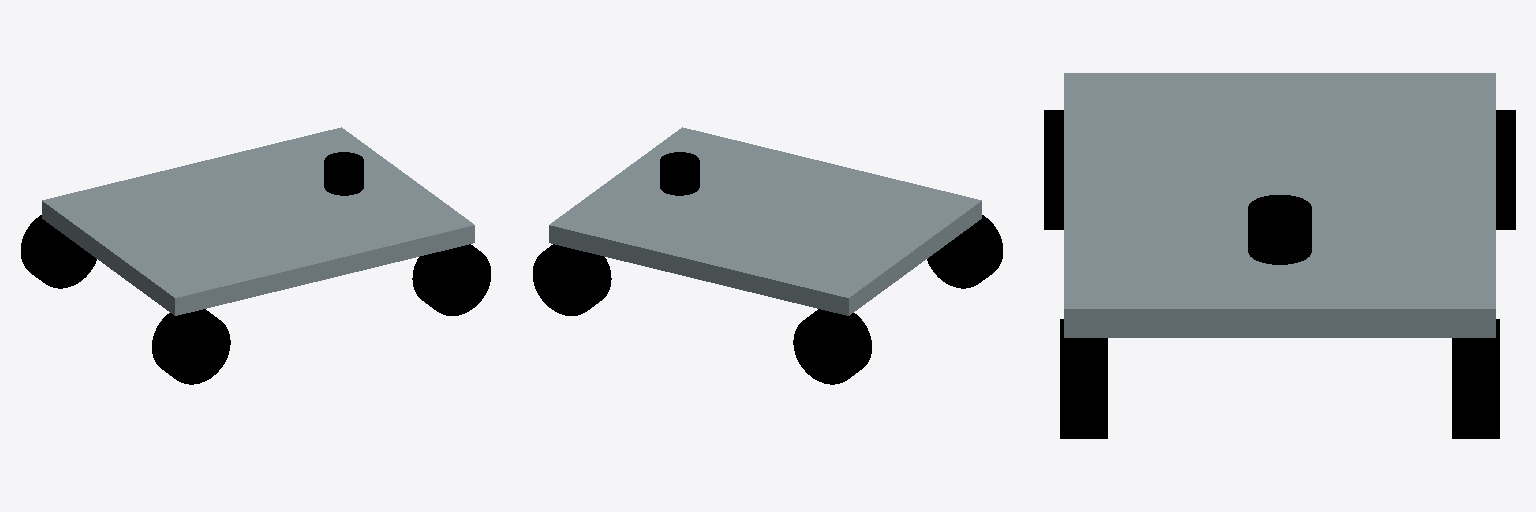
robot.urdf — small_car:
<?xml version="1.0" ?>
<!-- =================================================================================== -->
<!-- |    This document was autogenerated by xacro from car.xacro                      | -->
<!-- |    EDITING THIS FILE BY HAND IS NOT RECOMMENDED                                 | -->
<!-- =================================================================================== -->
<!-- <?xml version="1.0"?>
<robot xmlns:xacro="http://www.ros.org/wiki/xacro" name="Fan"> -->
<!--  -->
<robot name="small_car">
  <material name="green">
    <color rgba="0 0.5 0.2 1"/>
  </material>
  <material name="black">
    <color rgba="0 0 0 1"/>
  </material>
  <material name="white">
    <color rgba="1 1 1 1"/>
  </material>
  <material name="grey">
    <color rgba="0.5843137254901961 0.6392156862745098 0.6509803921568628 1"/>
  </material>
  <!-- car kg -->
  <!-- must -->
  <link name="base_footprint"/>
  <joint name="base_joint" type="fixed">
    <parent link="base_footprint"/>
    <child link="base_link"/>
    <origin rpy="0 0 0" xyz="0 0 0.010"/>
  </joint>
  <!-- car body -->
  <link name="base_link">
    <visual>
      <geometry>
        <box size="0.35 0.27 0.02"/>
      </geometry>
      <origin rpy="0 0 0" xyz="0 0 0"/>
      <material name="grey"/>
    </visual>
    <collision>
      <geometry>
        <box size="0.35 0.27 0.02"/>
      </geometry>
      <origin rpy="0 0 0" xyz="0 0 0"/>
    </collision>
    <inertial>
      <mass value="2"/>
      <!-- box inertia -->
      <inertia ixx="0.02048333333333333" ixy="0.0" ixz="0.0" iyy="0.012216666666666667" iyz="0.0" izz="0.03256666666666666"/>
    </inertial>
  </link>
  <!-- wheel diameter/2 -->
  <link name="right_front_steering_wheel">
    <inertial>
      <mass value="0.1"/>
      <inertia ixx="4.265624999999999e-05" ixy="0.0" ixz="0.0" iyy="4.265624999999999e-05" iyz="0.0" izz="7.03125e-05"/>
    </inertial>
  </link>
  <joint name="right_front_steering_wheel_joint" type="revolute">
    <axis rpy="0 0 0" xyz="0 0 1"/>
    <parent link="base_link"/>
    <child link="right_front_steering_wheel"/>
    <origin rpy="0 0 0" xyz="0.155 -0.1225 -0.0475"/>
  </joint>
  <link name="left_front_steering_wheel">
    <inertial>
      <mass value="0.1"/>
      <inertia ixx="4.265624999999999e-05" ixy="0.0" ixz="0.0" iyy="4.265624999999999e-05" iyz="0.0" izz="7.03125e-05"/>
    </inertial>
  </link>
  <joint name="left_front_steering_wheel_joint" type="revolute">
    <axis rpy="0 0 0" xyz="0 0 1"/>
    <parent link="base_link"/>
    <child link="left_front_steering_wheel"/>
    <origin rpy="0 0 0" xyz="0.155 0.1225 -0.0475"/>
  </joint>
  <link name="right_front_forward_wheel">
    <visual>
      <origin rpy="1.5707963267948966 0 0" xyz="0 0 0"/>
      <geometry>
        <cylinder length="0.03" radius="0.0375"/>
      </geometry>
      <material name="black"/>
    </visual>
    <collision>
      <origin rpy="1.5707963267948966 0 0" xyz="0 0 0"/>
      <geometry>
        <cylinder length="0.03" radius="0.0375"/>
      </geometry>
    </collision>
    <inertial>
      <mass value="0.1"/>
      <!-- cylinder inertia -->
      <inertia ixx="4.265624999999999e-05" ixy="0.0" ixz="0.0" iyy="4.265624999999999e-05" iyz="0.0" izz="7.03125e-05"/>
    </inertial>
  </link>
  <joint name="right_front_forward_wheel_joint" type="continuous">
    <axis rpy="0 0 0" xyz="0 1 0"/>
    <parent link="right_front_steering_wheel"/>
    <child link="right_front_forward_wheel"/>
    <origin rpy="0 0 0" xyz="0.0 -0.0 -0.0"/>
  </joint>
  <link name="left_front_forward_wheel">
    <visual>
      <origin rpy="1.5707963267948966 0 0" xyz="0 0 0"/>
      <geometry>
        <cylinder length="0.03" radius="0.0375"/>
      </geometry>
      <material name="black"/>
    </visual>
    <collision>
      <origin rpy="1.5707963267948966 0 0" xyz="0 0 0"/>
      <geometry>
        <cylinder length="0.03" radius="0.0375"/>
      </geometry>
    </collision>
    <inertial>
      <mass value="0.1"/>
      <!-- cylinder inertia -->
      <inertia ixx="4.265624999999999e-05" ixy="0.0" ixz="0.0" iyy="4.265624999999999e-05" iyz="0.0" izz="7.03125e-05"/>
    </inertial>
  </link>
  <joint name="left_front_forward_wheel_joint" type="continuous">
    <axis rpy="0 0 0" xyz="0 1 0"/>
    <parent link="left_front_steering_wheel"/>
    <child link="left_front_forward_wheel"/>
    <origin rpy="0 0 0" xyz="0.0 0.0 -0.0"/>
  </joint>
  <link name="right_back_forward_wheel">
    <visual>
      <origin rpy="1.5707963267948966 0 0" xyz="0 0 0"/>
      <geometry>
        <cylinder length="0.03" radius="0.0375"/>
      </geometry>
      <material name="black"/>
    </visual>
    <collision>
      <origin rpy="1.5707963267948966 0 0" xyz="0 0 0"/>
      <geometry>
        <cylinder length="0.03" radius="0.0375"/>
      </geometry>
    </collision>
    <inertial>
      <mass value="0.1"/>
      <!-- cylinder inertia -->
      <inertia ixx="4.265624999999999e-05" ixy="0.0" ixz="0.0" iyy="4.265624999999999e-05" iyz="0.0" izz="7.03125e-05"/>
    </inertial>
  </link>
  <joint name="right_back_forward_wheel_joint" type="continuous">
    <axis rpy="0 0 0" xyz="0 1 0"/>
    <parent link="base_link"/>
    <child link="right_back_forward_wheel"/>
    <origin rpy="0 0 0" xyz="-0.155 -0.1325 -0.0475"/>
  </joint>
  <link name="left_back_forward_wheel">
    <visual>
      <origin rpy="1.5707963267948966 0 0" xyz="0 0 0"/>
      <geometry>
        <cylinder length="0.03" radius="0.0375"/>
      </geometry>
      <material name="black"/>
    </visual>
    <collision>
      <origin rpy="1.5707963267948966 0 0" xyz="0 0 0"/>
      <geometry>
        <cylinder length="0.03" radius="0.0375"/>
      </geometry>
    </collision>
    <inertial>
      <mass value="0.1"/>
      <!-- cylinder inertia -->
      <inertia ixx="4.265624999999999e-05" ixy="0.0" ixz="0.0" iyy="4.265624999999999e-05" iyz="0.0" izz="7.03125e-05"/>
    </inertial>
  </link>
  <joint name="left_back_forward_wheel_joint" type="continuous">
    <axis rpy="0 0 0" xyz="0 1 0"/>
    <parent link="base_link"/>
    <child link="left_back_forward_wheel"/>
    <origin rpy="0 0 0" xyz="-0.155 0.1325 -0.0475"/>
  </joint>
  <!-- scan sensor -->
  <link name="base_scan">
    <visual>
      <origin rpy="0 0 0" xyz="0 0 0"/>
      <geometry>
        <cylinder length="0.03" radius="0.02"/>
      </geometry>
      <material name="black"/>
    </visual>
    <collision>
      <origin rpy="0 0 0" xyz="0 0 0"/>
      <geometry>
        <cylinder length="0.03" radius="0.02"/>
      </geometry>
    </collision>
    <inertial>
      <mass value="0.2"/>
      <origin xyz="0 0 0"/>
      <inertia ixx="0.001" ixy="0.0" ixz="0.0" iyy="0.001" iyz="0.0" izz="0.001"/>
    </inertial>
  </link>
  <joint name="scan_joint" type="fixed">
    <parent link="base_link"/>
    <child link="base_scan"/>
    <origin rpy="0 0 0" xyz="0.1 0 0.03"/>
  </joint>
</robot>

--- Facts derived from the render (not from the file) ---
The picture shows the robot from 3 angles, left to right: view 1: azimuth 30°, elevation 25°; view 2: azimuth 150°, elevation 25°; view 3: azimuth 270°, elevation 25°; orthographic projection.
Robot: small_car — 9 links, 8 joints (2 revolute, 4 continuous, 2 fixed); root link base_footprint; default pose: all joints at 0.
Links seen in each view (by area): view 1: base_link, right_back_forward_wheel, right_front_forward_wheel, left_back_forward_wheel, base_scan; view 2: base_link, left_back_forward_wheel, left_front_forward_wheel, right_back_forward_wheel, base_scan; view 3: base_link, right_front_forward_wheel, left_front_forward_wheel, base_scan, right_back_forward_wheel, left_back_forward_wheel.
Boxes of the visible links, x1=… form: base_link: x1=42, y1=127, x2=474, y2=315; right_back_forward_wheel: x1=152, y1=309, x2=230, y2=384; right_front_forward_wheel: x1=412, y1=244, x2=490, y2=315; left_back_forward_wheel: x1=21, y1=215, x2=96, y2=288; base_scan: x1=324, y1=152, x2=363, y2=195; base_link: x1=549, y1=127, x2=981, y2=315; left_back_forward_wheel: x1=793, y1=309, x2=871, y2=384; left_front_forward_wheel: x1=533, y1=244, x2=611, y2=315; right_back_forward_wheel: x1=927, y1=215, x2=1002, y2=288; base_scan: x1=660, y1=152, x2=699, y2=195; base_link: x1=1064, y1=73, x2=1495, y2=337; right_front_forward_wheel: x1=1060, y1=319, x2=1107, y2=438; left_front_forward_wheel: x1=1452, y1=319, x2=1499, y2=438; base_scan: x1=1248, y1=195, x2=1311, y2=264; right_back_forward_wheel: x1=1044, y1=110, x2=1063, y2=229; left_back_forward_wheel: x1=1496, y1=110, x2=1515, y2=229.
Bounding box of the posed robot: 0.385 × 0.295 × 0.13 m (x, y, z).
Geometry: primitives only (box / cylinder / sphere), no mesh files.